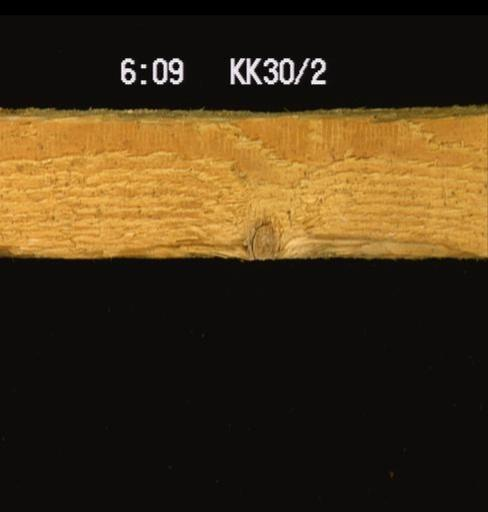sound_knot: (248, 218, 281, 258)
wave: (0, 247, 486, 259)
